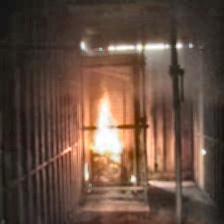fire: (93, 94, 125, 159)
